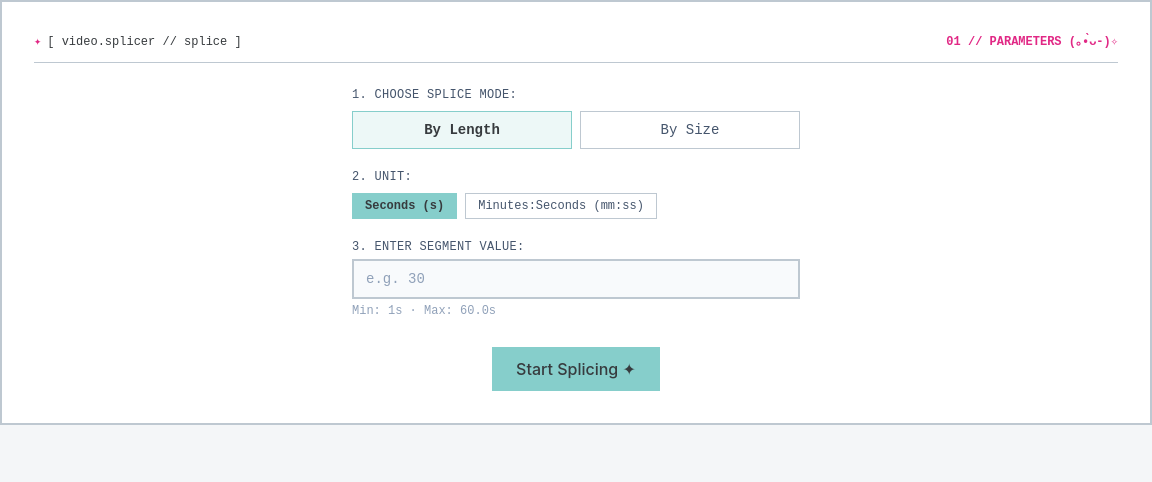
Test: SplicePanel › mode and value form validation › validates required non-empty input
Click the button with test id "start-splice-btn" at (576, 369), box left=492, top=347, right=660, bottom=391
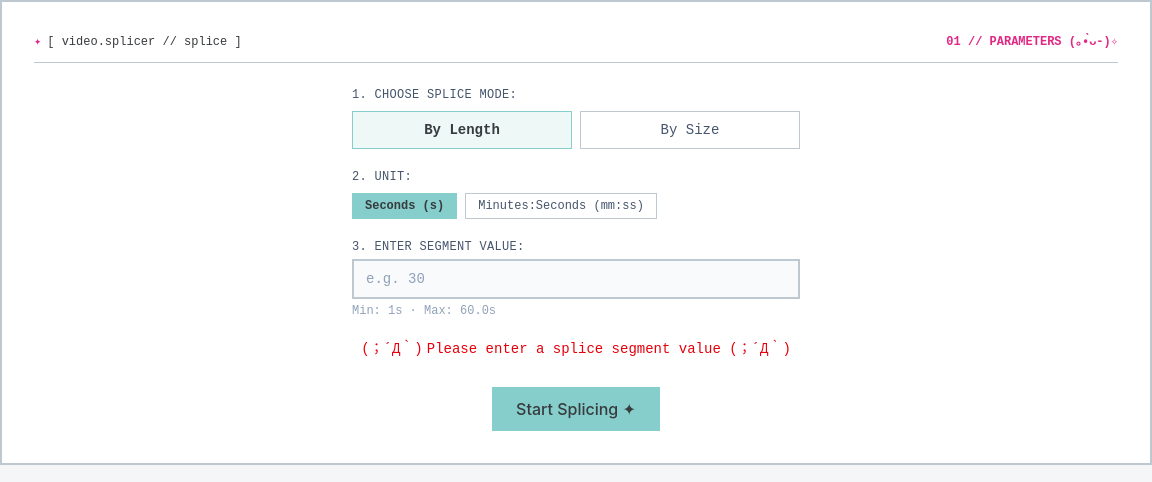
Expected: the message with test id "splice-validation-error" shows "Please enter a splice segment value", left=427, top=341, right=791, bottom=357
